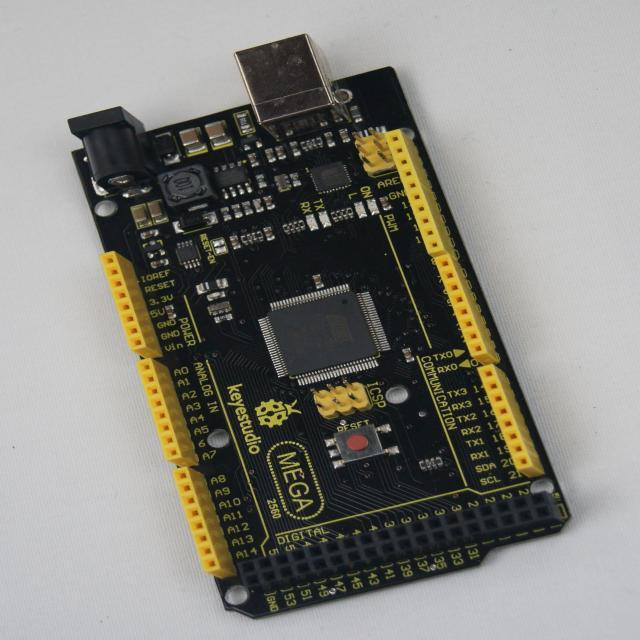Arduino Mega 2560 -Yellow-: (69, 35, 570, 618)
